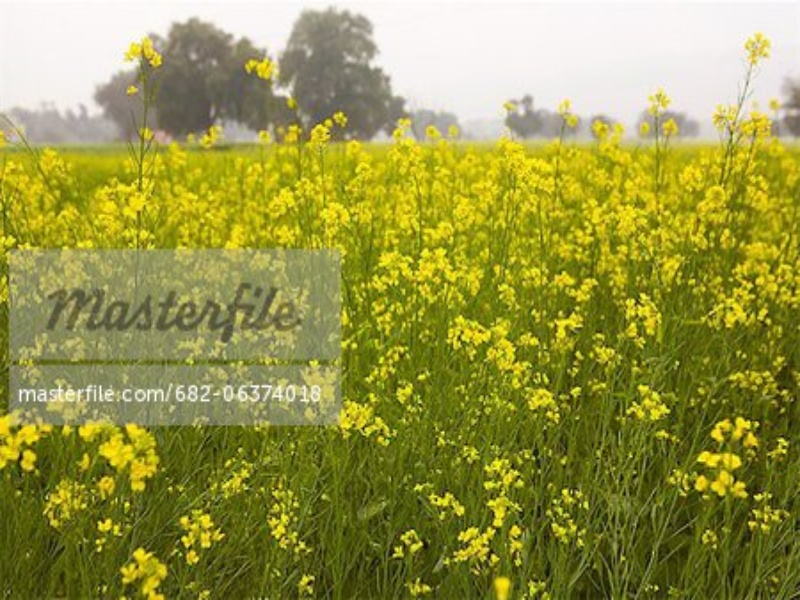mustard: (411, 23, 786, 541), (11, 41, 408, 239), (14, 426, 391, 587)
